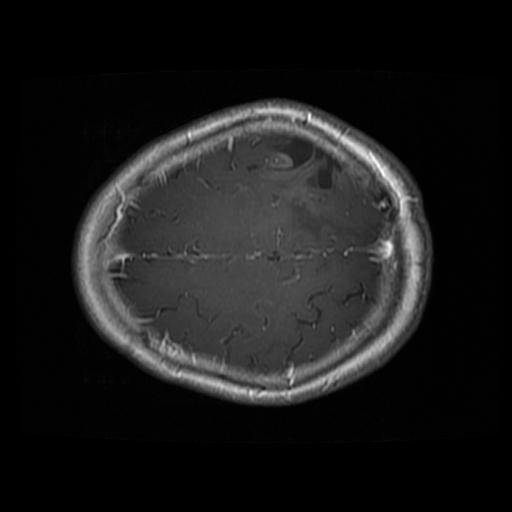glioma: (263, 137, 382, 247)
